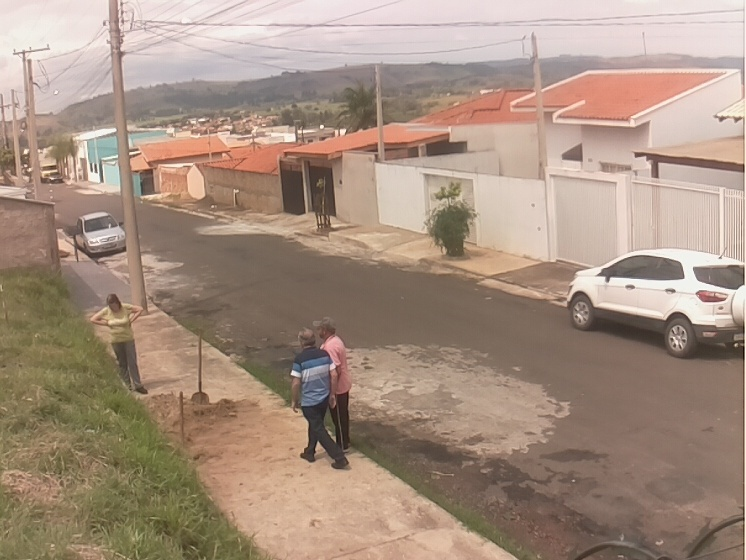person: (290, 327, 349, 470), (90, 293, 151, 397), (311, 316, 353, 455)
